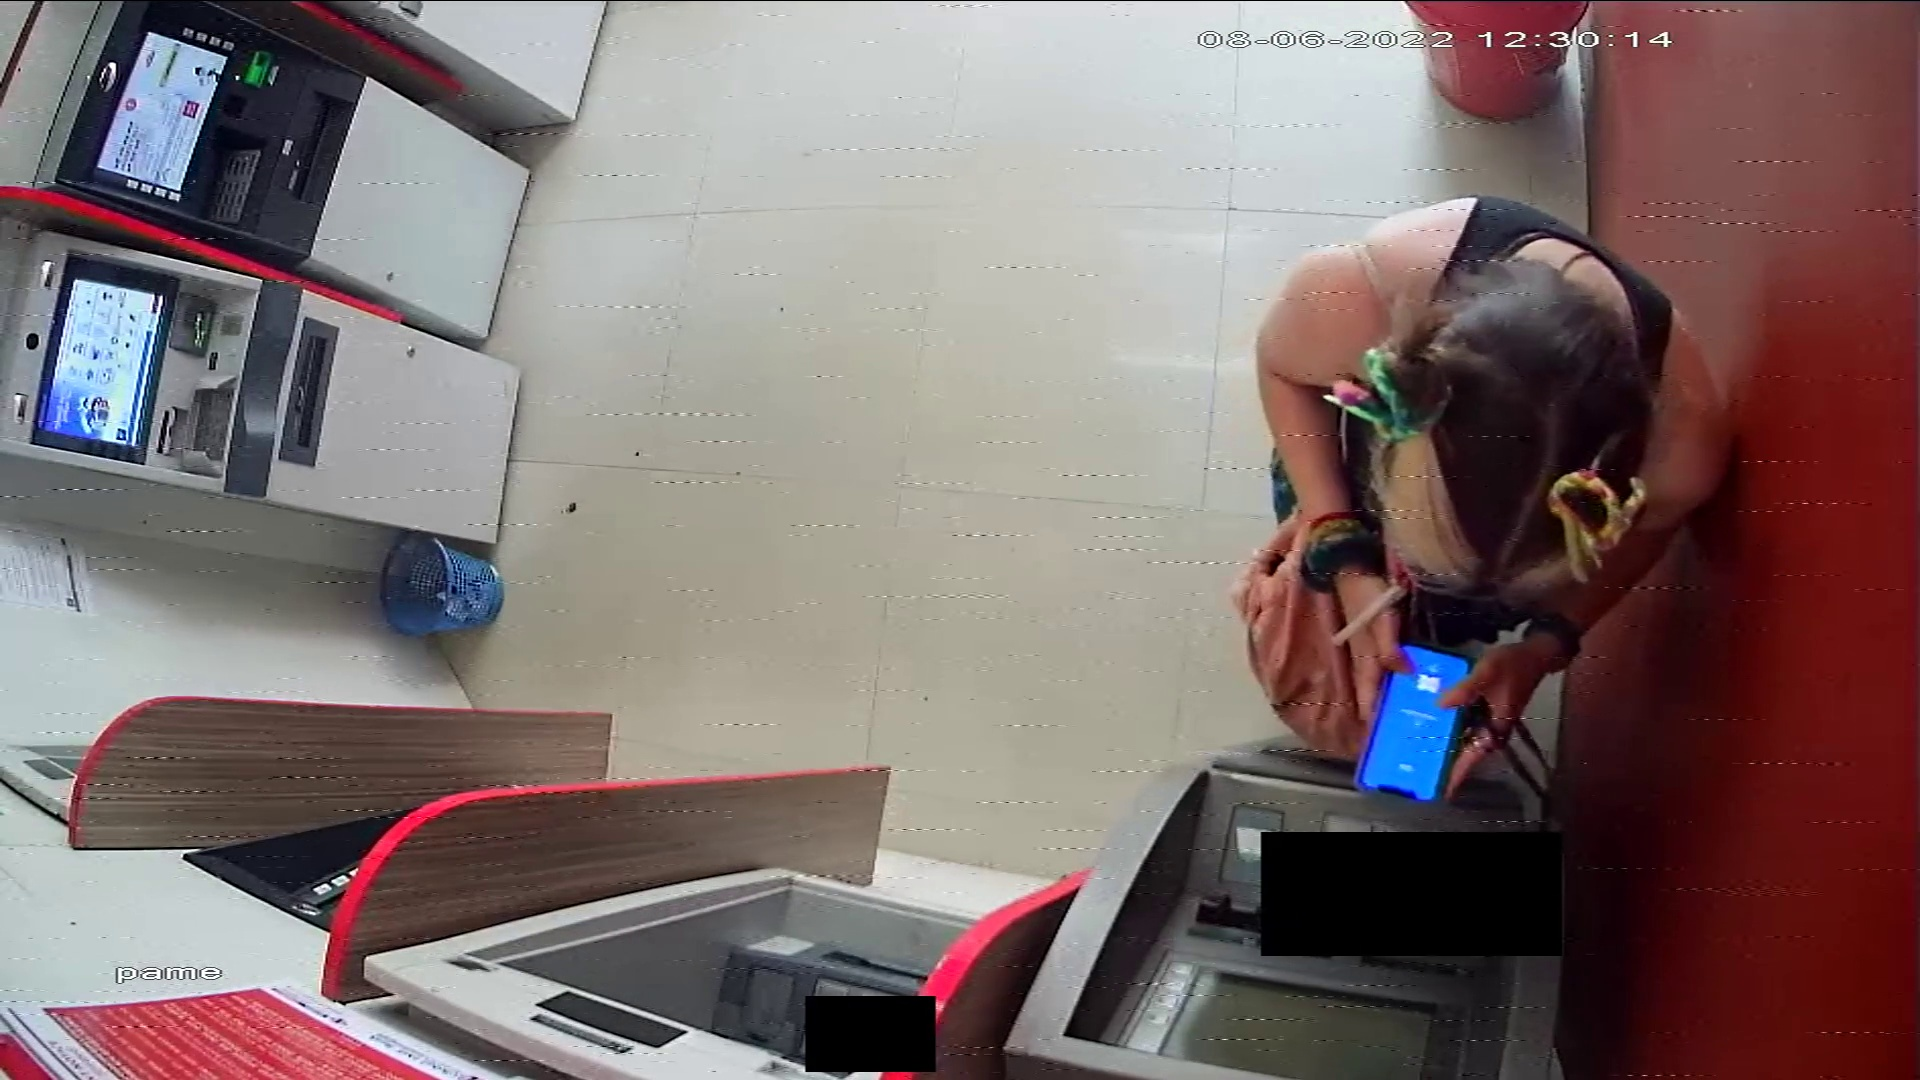person: (1225, 192, 1738, 807)
phone: (1356, 638, 1475, 805)
